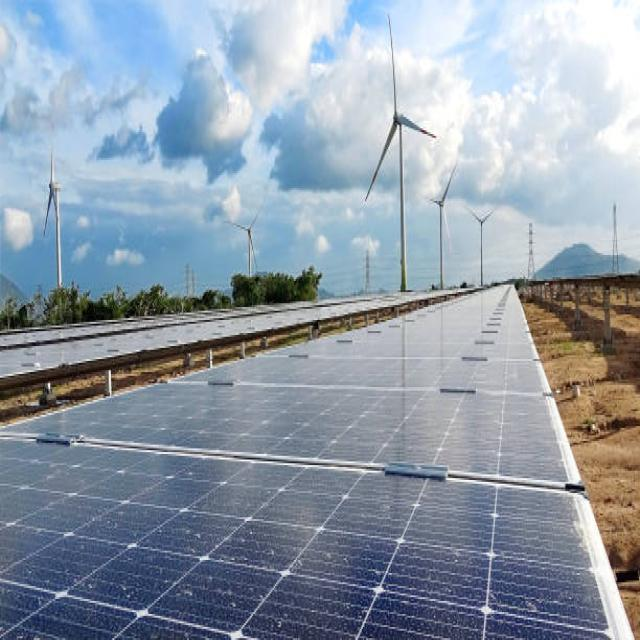dust-solar-panel: (0, 329, 612, 640)
